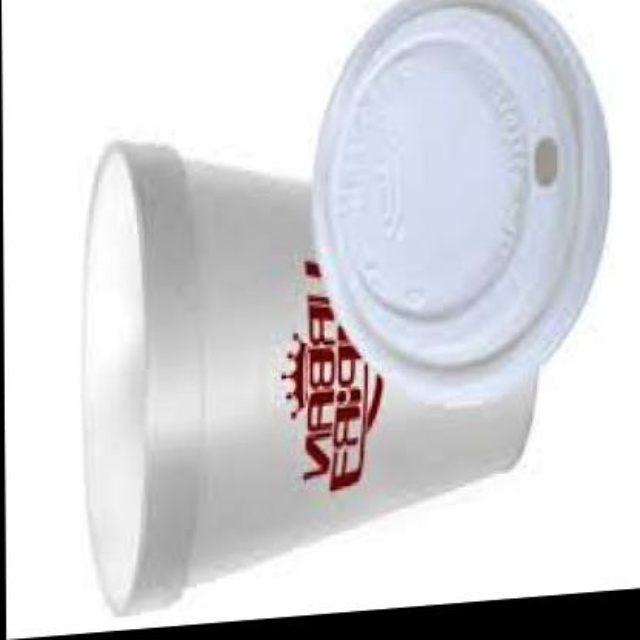trash: (83, 0, 608, 614)
